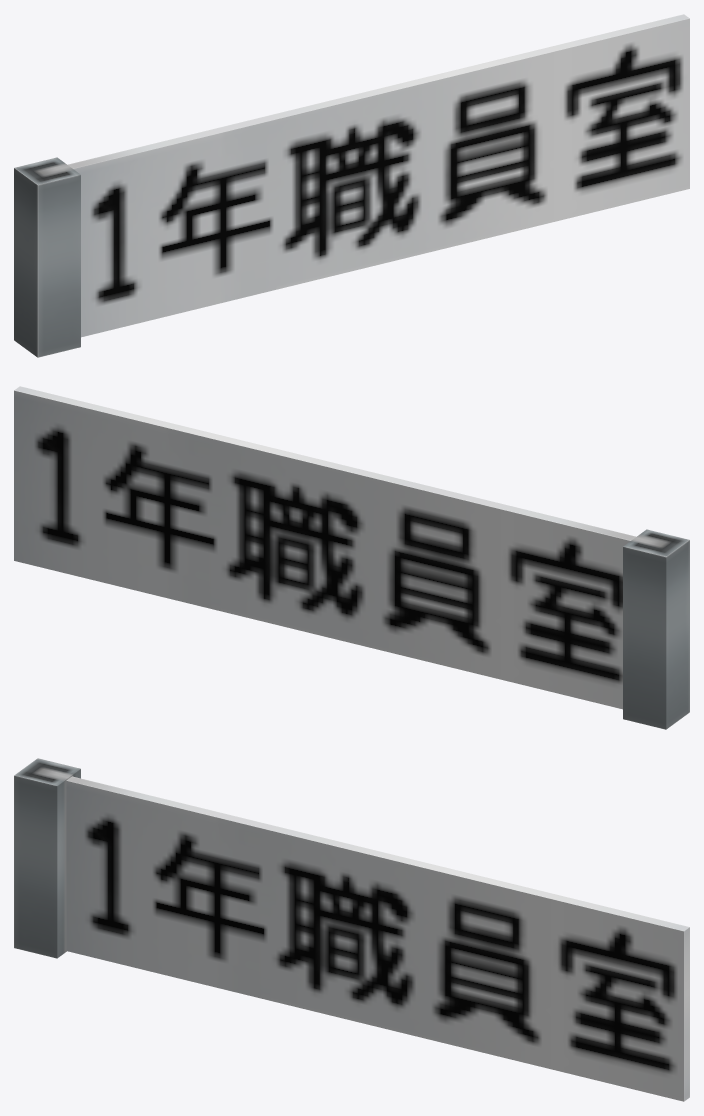
Rendered from SHW_NamePlate_01_01_Teachers_room01.fbx.
3 renders of one model, top to bottom at view 1: azimuth 30°, elevation 25°; view 2: azimuth 150°, elevation 25°; view 3: azimuth 330°, elevation 25°, orthographic.
Parts seen in each view (by area): view 1: shw_nameplate_01_01_teachers_room01; view 2: shw_nameplate_01_01_teachers_room01; view 3: shw_nameplate_01_01_teachers_room01.
Boxes of the visible parts, x1,y1,x2,y2 form: shw_nameplate_01_01_teachers_room01: [14, 14, 689, 357]; shw_nameplate_01_01_teachers_room01: [14, 386, 689, 729]; shw_nameplate_01_01_teachers_room01: [14, 758, 689, 1101].
Bounding box in the file's own units: 32.1 × 8 × 2.
